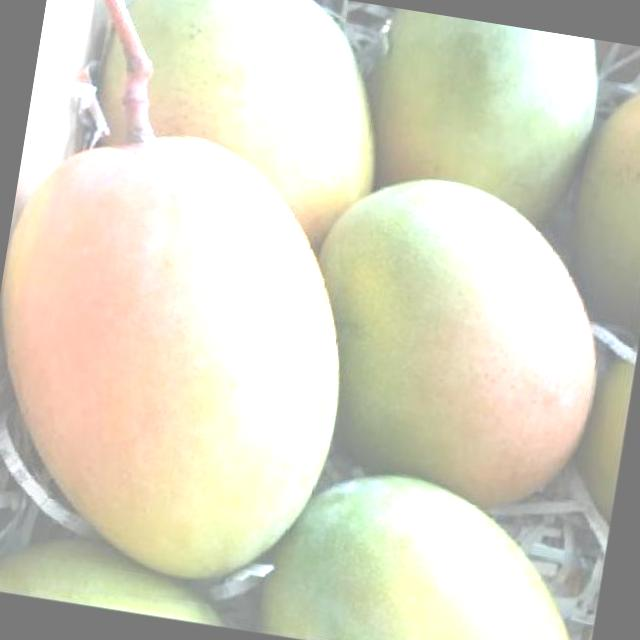Mango: (0, 110, 375, 600), (284, 162, 622, 524), (72, 0, 401, 271), (251, 453, 608, 640), (354, 7, 608, 246)
